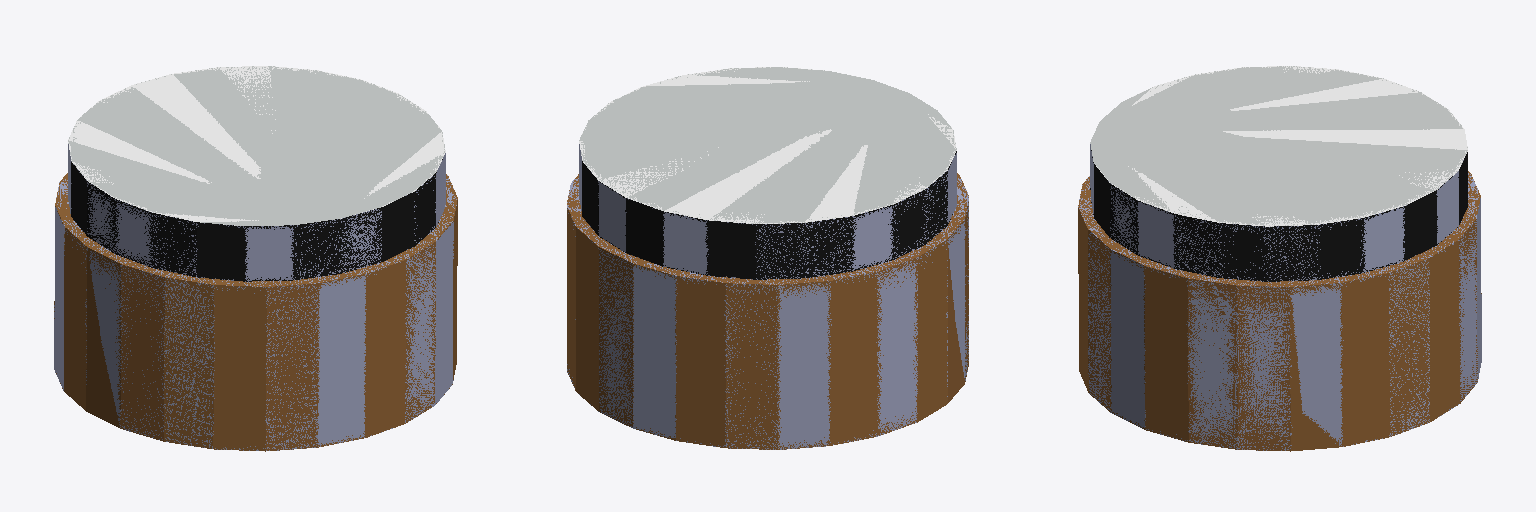
The model's file is water_meter.obj.
The picture shows the model from 3 angles: view 1: azimuth 30°, elevation 25°; view 2: azimuth 150°, elevation 25°; view 3: azimuth 270°, elevation 25°; orthographic projection.
Visible parts, largest first — view 1: Mesh1 Meter1 Model; view 2: Mesh1 Meter1 Model; view 3: Mesh1 Meter1 Model.
Part boxes in pixels (left/top/right/bottom): Mesh1 Meter1 Model: left=54, top=66, right=457, bottom=451; Mesh1 Meter1 Model: left=567, top=67, right=968, bottom=449; Mesh1 Meter1 Model: left=1078, top=66, right=1481, bottom=451.
Size of the model in its own units: 8.25 by 5.02 by 8.26.